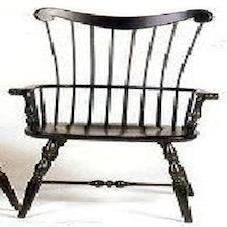chair: (3, 5, 206, 220)
